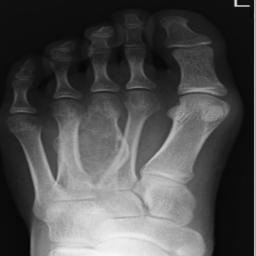cancer: (53, 107, 135, 184)
